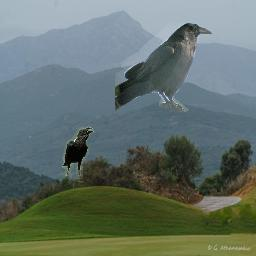Crow: (115, 22, 213, 112), (62, 126, 94, 179)
